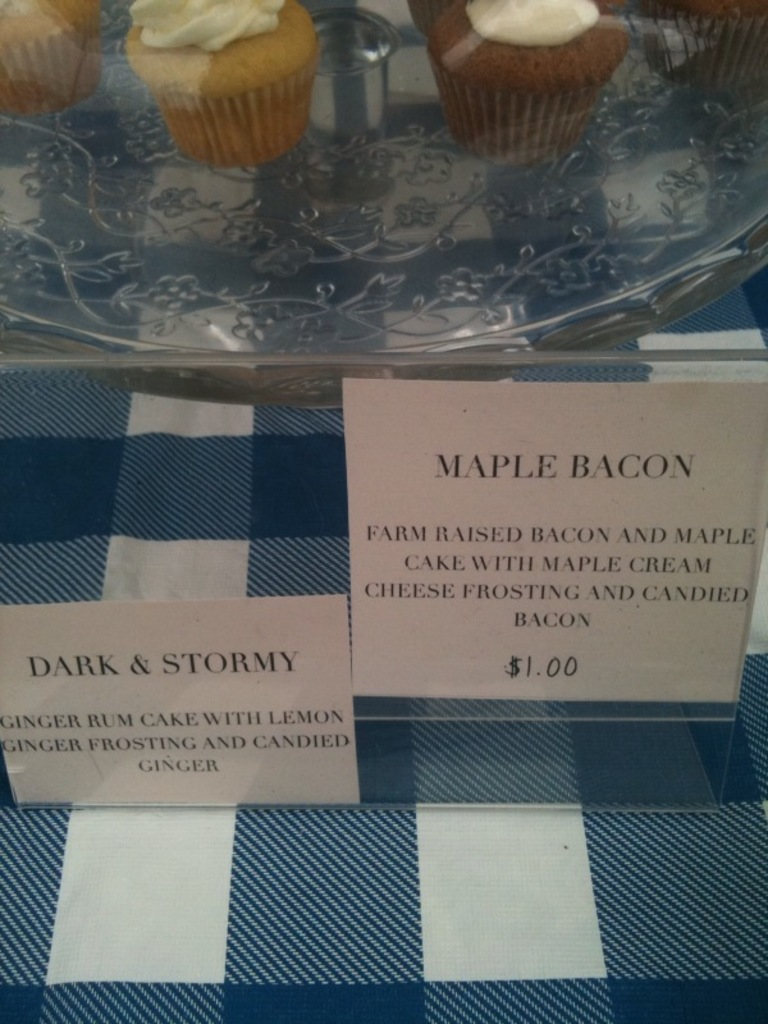cake: (401, 0, 649, 141), (122, 0, 317, 147), (0, 0, 93, 102)
